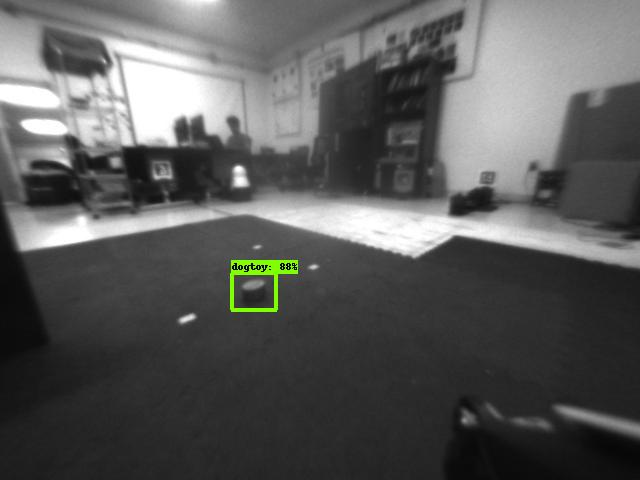dogtoy: (229, 276, 276, 307)
